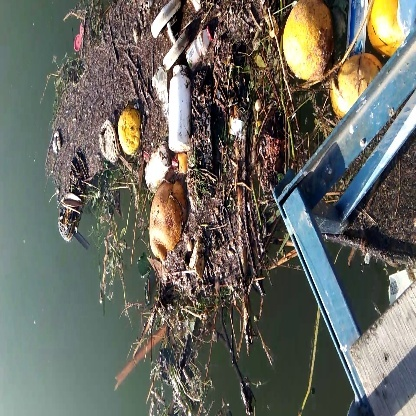ball: (280, 1, 337, 83)
milk-box: (168, 64, 199, 153)
